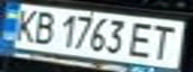1: (54, 11, 78, 47)
3: (106, 17, 130, 56)
6: (87, 15, 112, 53)
7: (72, 13, 93, 51)
B: (27, 8, 60, 45)
E: (124, 19, 160, 60)
K: (6, 6, 42, 43)
T: (145, 22, 184, 61)
